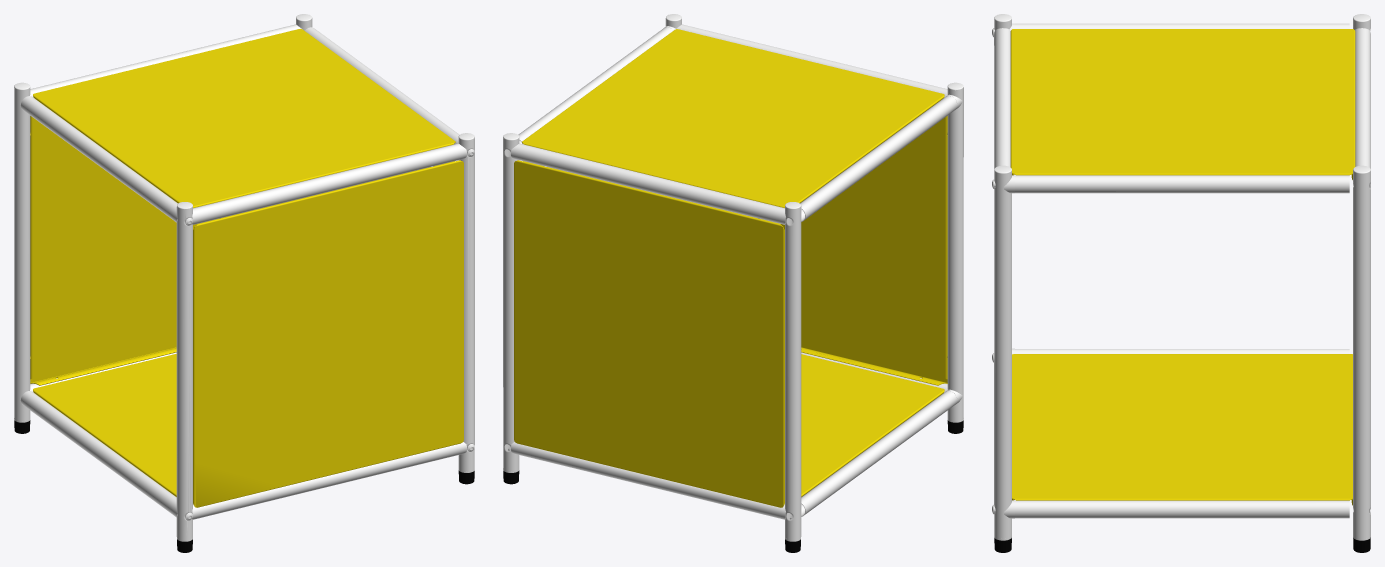
File: 40x40x40-2-7-yellow_optimized_optimized.glb
3 views of the same model, side by side, from view 1: azimuth 30°, elevation 25°; view 2: azimuth 150°, elevation 25°; view 3: azimuth 270°, elevation 25° (orthographic). The views are drawn at different scales.
Visible parts, largest first — view 1: 直角鐵板-40x40-5 - 零件, 反-鐵管-40-354..4-1 - 零件, 圓形腳+調整器-1 - 零件; view 2: 直角鐵板-40x40-5 - 零件, 反-鐵管-40-354..4-1 - 零件, 圓形腳+調整器-1 - 零件; view 3: 直角鐵板-40x40-5 - 零件, 反-鐵管-40-354..4-1 - 零件.
Boxes of the visible parts, x1=… form: 直角鐵板-40x40-5 - 零件: x1=30, y1=28, x2=463, y2=507; 反-鐵管-40-354..4-1 - 零件: x1=14, y1=14, x2=474, y2=541; 圓形腳+調整器-1 - 零件: x1=14, y1=420, x2=474, y2=552; 直角鐵板-40x40-5 - 零件: x1=514, y1=29, x2=947, y2=507; 反-鐵管-40-354..4-1 - 零件: x1=503, y1=14, x2=963, y2=541; 圓形腳+調整器-1 - 零件: x1=503, y1=420, x2=963, y2=552; 直角鐵板-40x40-5 - 零件: x1=1010, y1=29, x2=1355, y2=505; 反-鐵管-40-354..4-1 - 零件: x1=992, y1=14, x2=1370, y2=540.
Bounding box in the file's own units: 0.3992 × 0.4453 × 0.4013.
